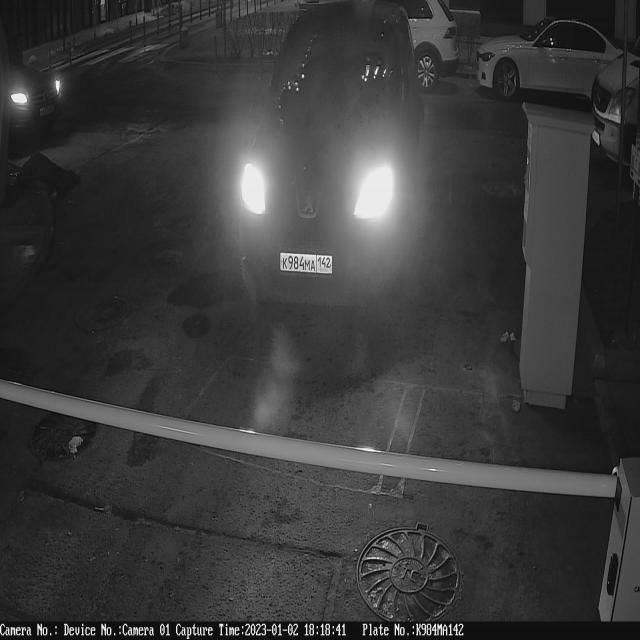car-plate-numbers: (279, 249, 335, 280)
